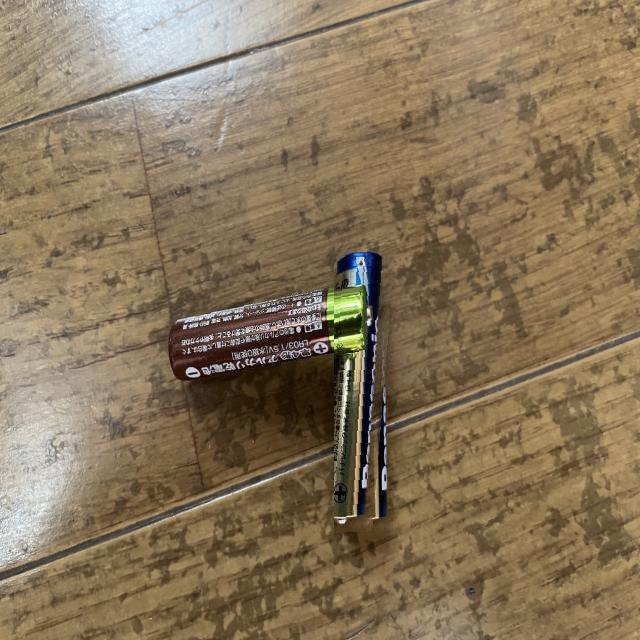battery: (160, 281, 390, 395), (334, 242, 396, 534)
